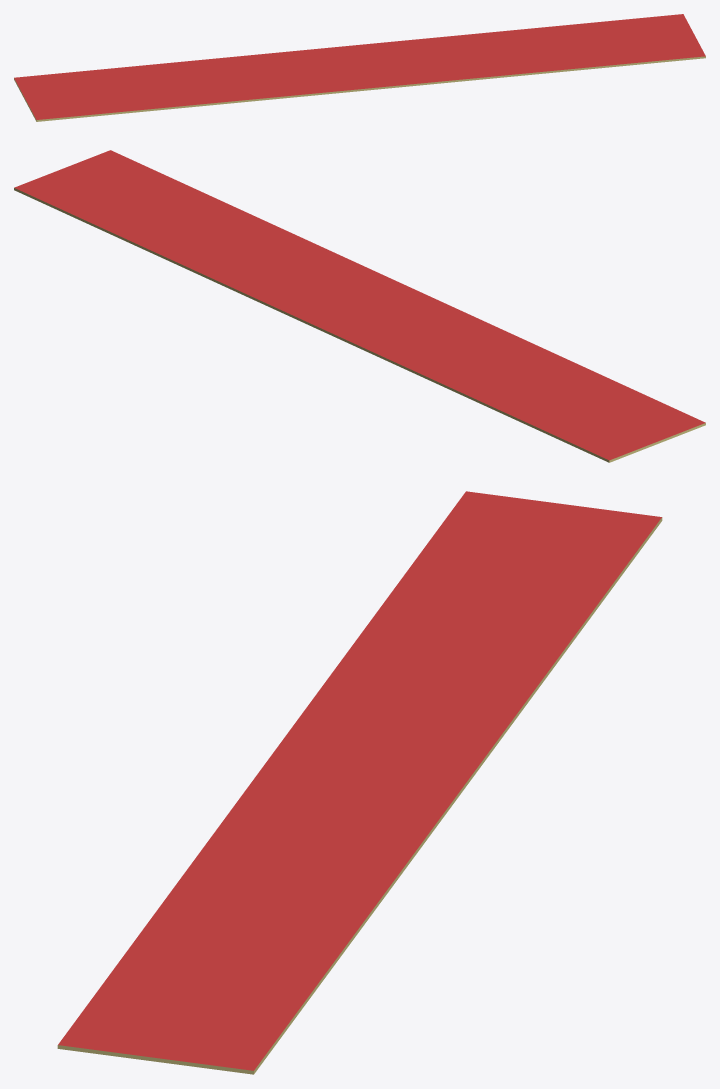
3 renders of one model, top to bottom at view 1: azimuth 30°, elevation 25°; view 2: azimuth 150°, elevation 25°; view 3: azimuth 270°, elevation 25°, orthographic. The views are drawn at different scales.
Parts seen in each view (by area): view 1: group_3, group_4; view 2: group_3, group_4; view 3: group_3, group_4.
Part boxes in pixels (box(x1,y1,x2,y2)): group_3: box(14, 14, 705, 119); group_4: box(14, 56, 705, 121); group_3: box(14, 150, 705, 460); group_4: box(14, 188, 705, 462); group_3: box(58, 491, 661, 1070); group_4: box(57, 517, 662, 1074).
Bounding box in the file's own units: 32.61 × 14.37 × 0.1.
